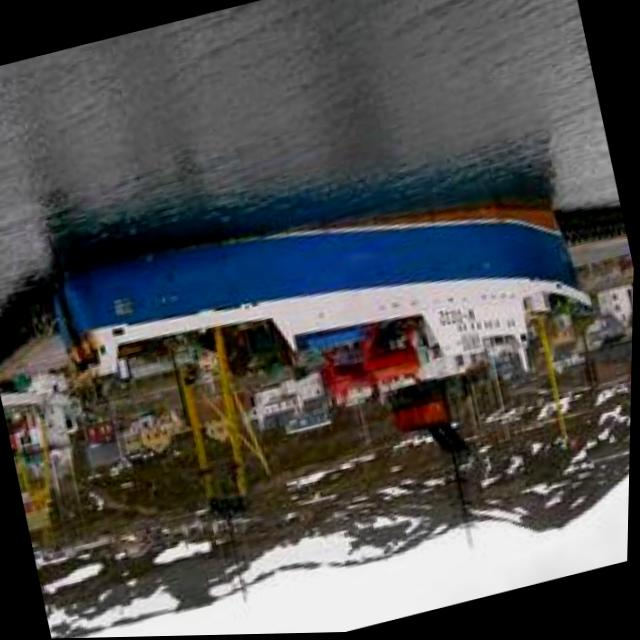ship2: (53, 204, 597, 495)
